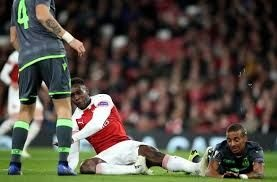falling: (184, 119, 270, 179)
